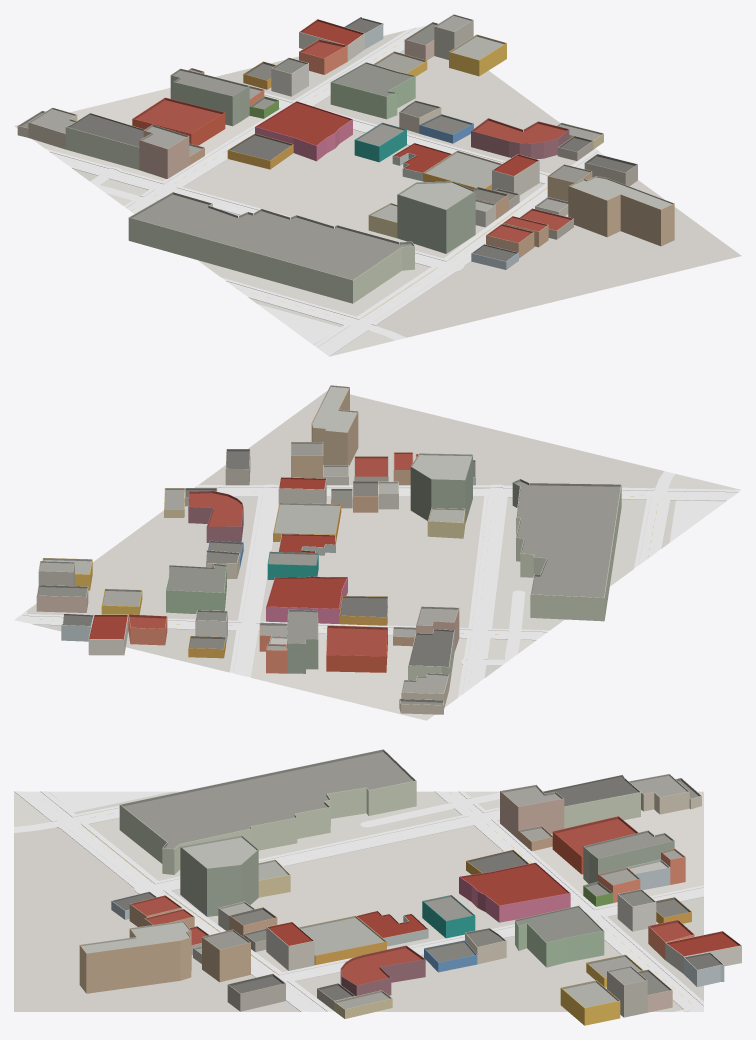
3 renders of one model, top to bottom at view 1: azimuth 30°, elevation 25°; view 2: azimuth 150°, elevation 25°; view 3: azimuth 270°, elevation 25°, orthographic. The views are drawn at different scales.
Parts seen in each view (by area): view 1: ground, walls, roofs, asphalt, sidewalk, grass; view 2: ground, roofs, walls, asphalt, sidewalk, grass; view 3: ground, roofs, walls, asphalt, sidewalk, grass.
Part boxes in pixels (left/top/right/bottom): ground: left=14, top=30, right=741, bottom=356; walls: left=17, top=20, right=674, bottom=303; roofs: left=18, top=14, right=674, bottom=280; asphalt: left=50, top=25, right=604, bottom=353; sidewalk: left=46, top=27, right=598, bottom=356; grass: left=257, top=304, right=340, bottom=344; ground: left=27, top=390, right=739, bottom=720; roofs: left=37, top=385, right=621, bottom=705; walls: left=36, top=388, right=621, bottom=714; asphalt: left=14, top=471, right=738, bottom=694; sidewalk: left=22, top=484, right=741, bottom=697; grass: left=669, top=500, right=725, bottom=542; ground: left=14, top=791, right=703, bottom=1011; roofs: left=80, top=749, right=741, bottom=1009; walls: left=79, top=781, right=741, bottom=1025; asphalt: left=14, top=791, right=703, bottom=1011; sidewalk: left=14, top=791, right=703, bottom=1011; grass: left=49, top=791, right=171, bottom=812.
Size of what is drawn, in the model's own units: 215 by 19.25 by 264.
